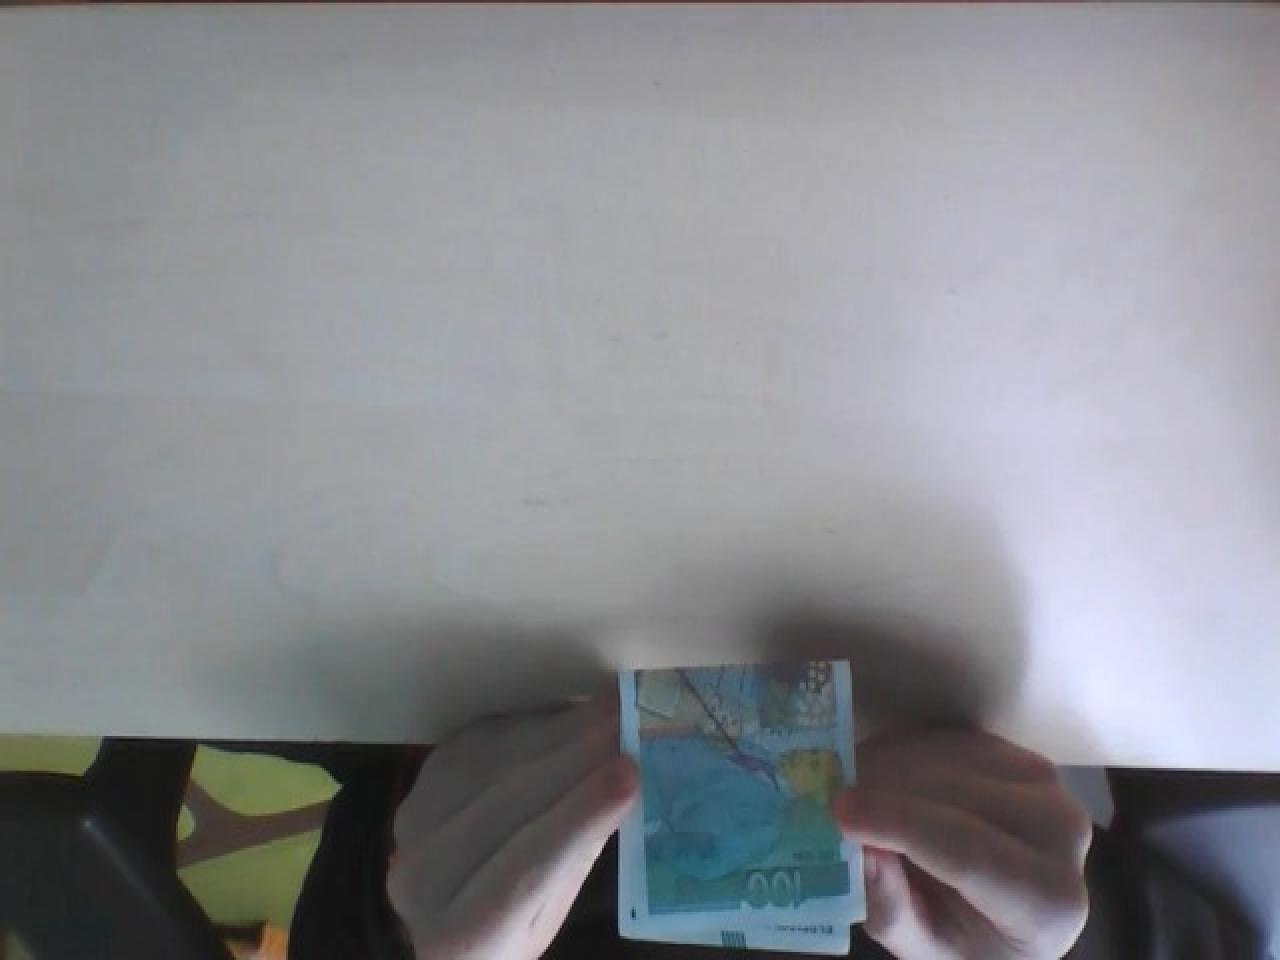100leva: (616, 656, 868, 955)
